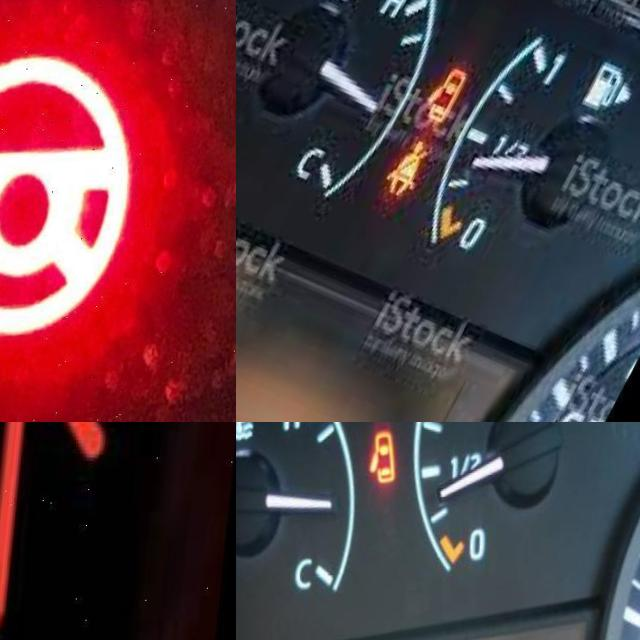Electronic Power Steering Warning: (0, 53, 136, 350)
Seat Belt: (385, 140, 437, 205)
